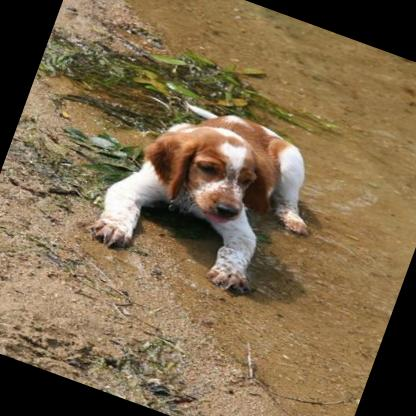Welsh_springer_spaniel: (83, 78, 333, 307)
